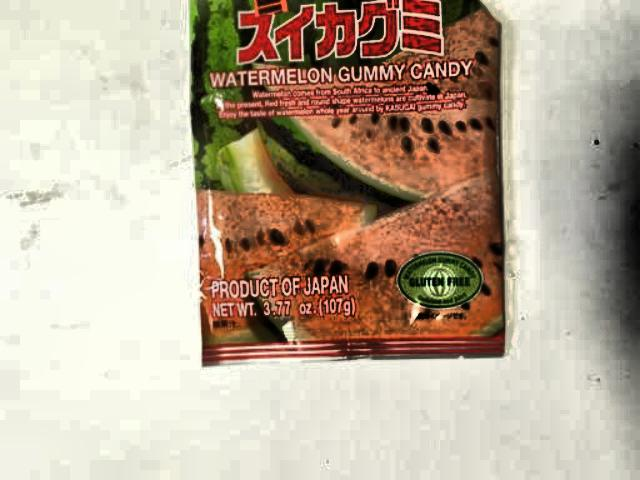Plastic: (201, 5, 513, 394)
